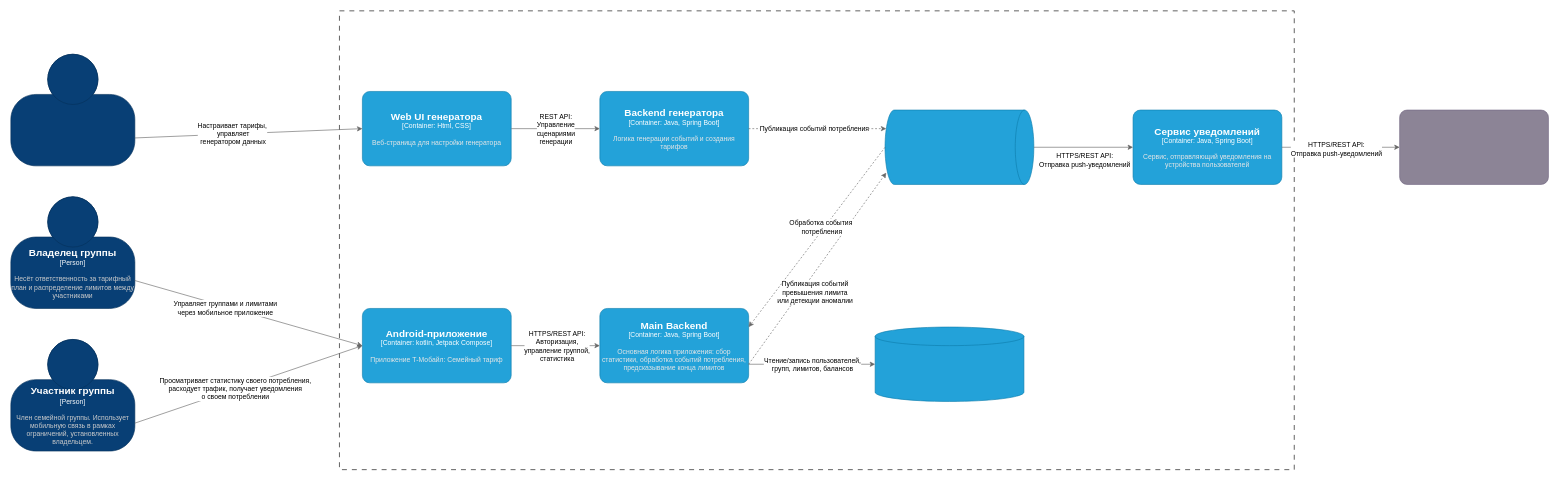
The diagram is 1559 pixels wide and 481 high, and some of its shapes have lost their labels. Each missing label, with the centre of its shape:
"Google FCM [Software System] Внешний сервис push-уведомлений" goes at [1473,146].
"Kafka [Container: Apache Kafka] Брокер сообщений" goes at [959,146].
"SQL database [Container: PostgreSQL] База данных приложения" goes at [949,363].
"Администратор (тестировщик) [Person] Управляет системой" goes at [72,110].
